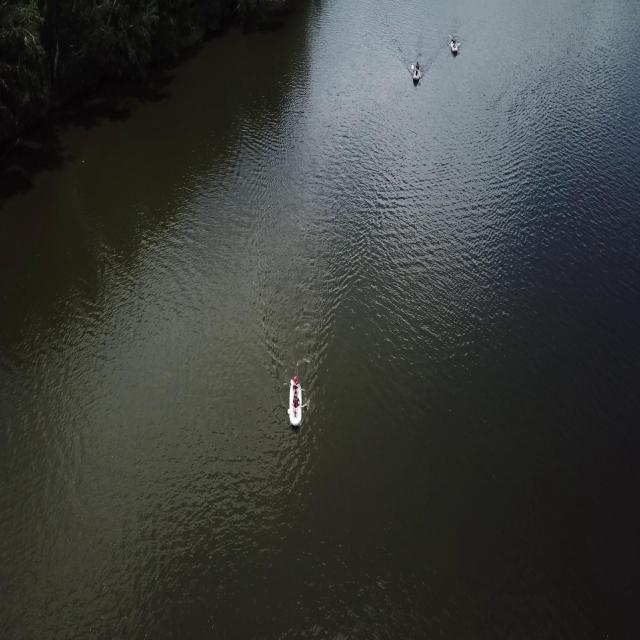kayak: (285, 373, 307, 432), (411, 62, 422, 88), (449, 36, 461, 59)
